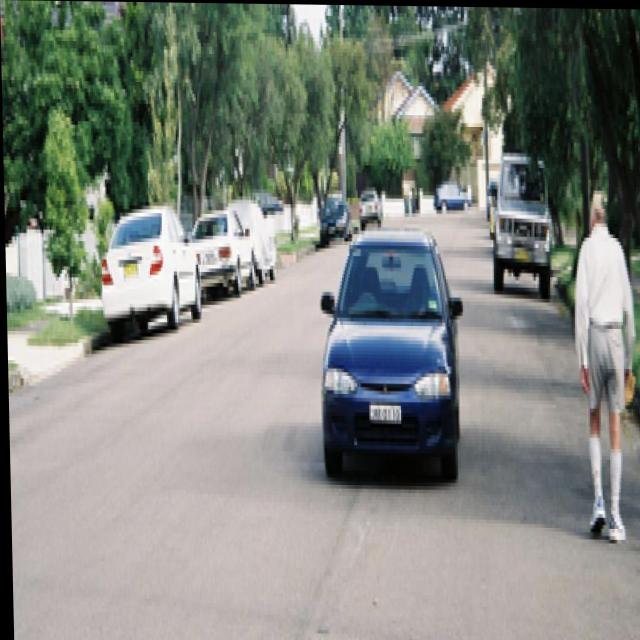licence: (362, 386, 406, 434)
